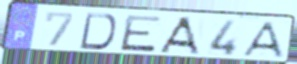4: (207, 18, 239, 57)
7: (43, 10, 76, 48)
A: (157, 16, 202, 57), (239, 21, 286, 59)
D: (77, 12, 118, 51)
E: (118, 14, 164, 54)
